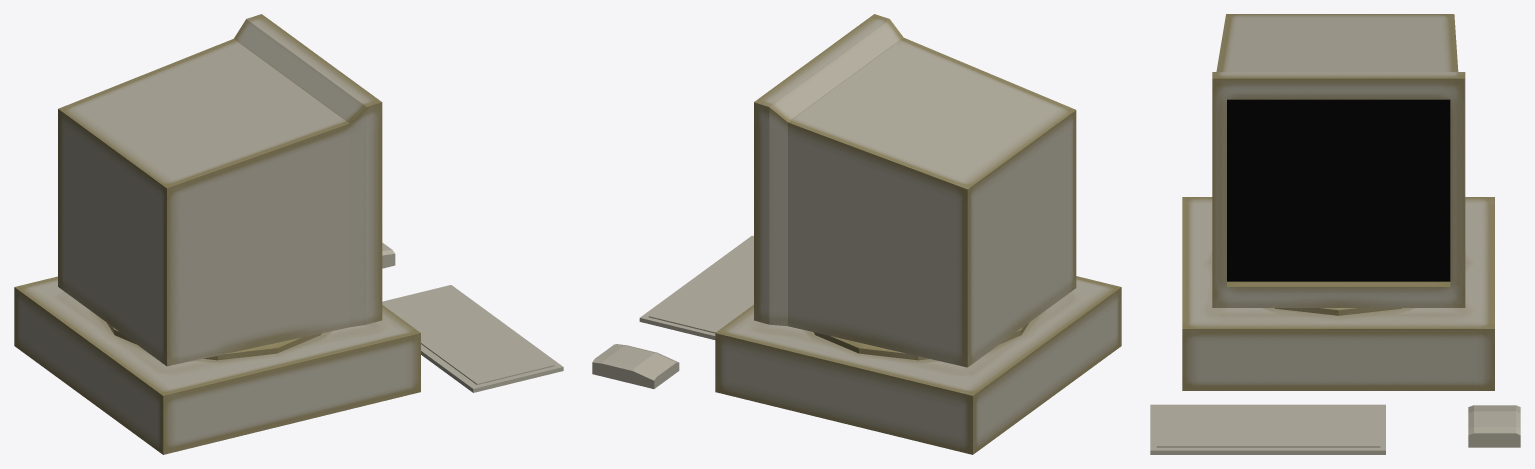
The model's file is TheComputar.fbx.
3 renders of one model, left to right at view 1: azimuth 30°, elevation 25°; view 2: azimuth 150°, elevation 25°; view 3: azimuth 270°, elevation 25°, orthographic. The views are drawn at different scales.
Parts seen in each view (by area): view 1: Computer, Keyboard; view 2: Computer, Keyboard, Mouse; view 3: Computer, Keyboard, Mouse.
Boxes of the visible parts, x1,y1,x2,y2 form: Computer: (14,14,420,454); Keyboard: (382,285,563,392); Computer: (715,14,1121,454); Keyboard: (639,235,753,339); Mouse: (592,344,679,388); Computer: (1182,14,1494,390); Keyboard: (1150,404,1385,454); Mouse: (1468,405,1520,447).
Size of the model in its own units: 74.72 by 52.95 by 59.3.
